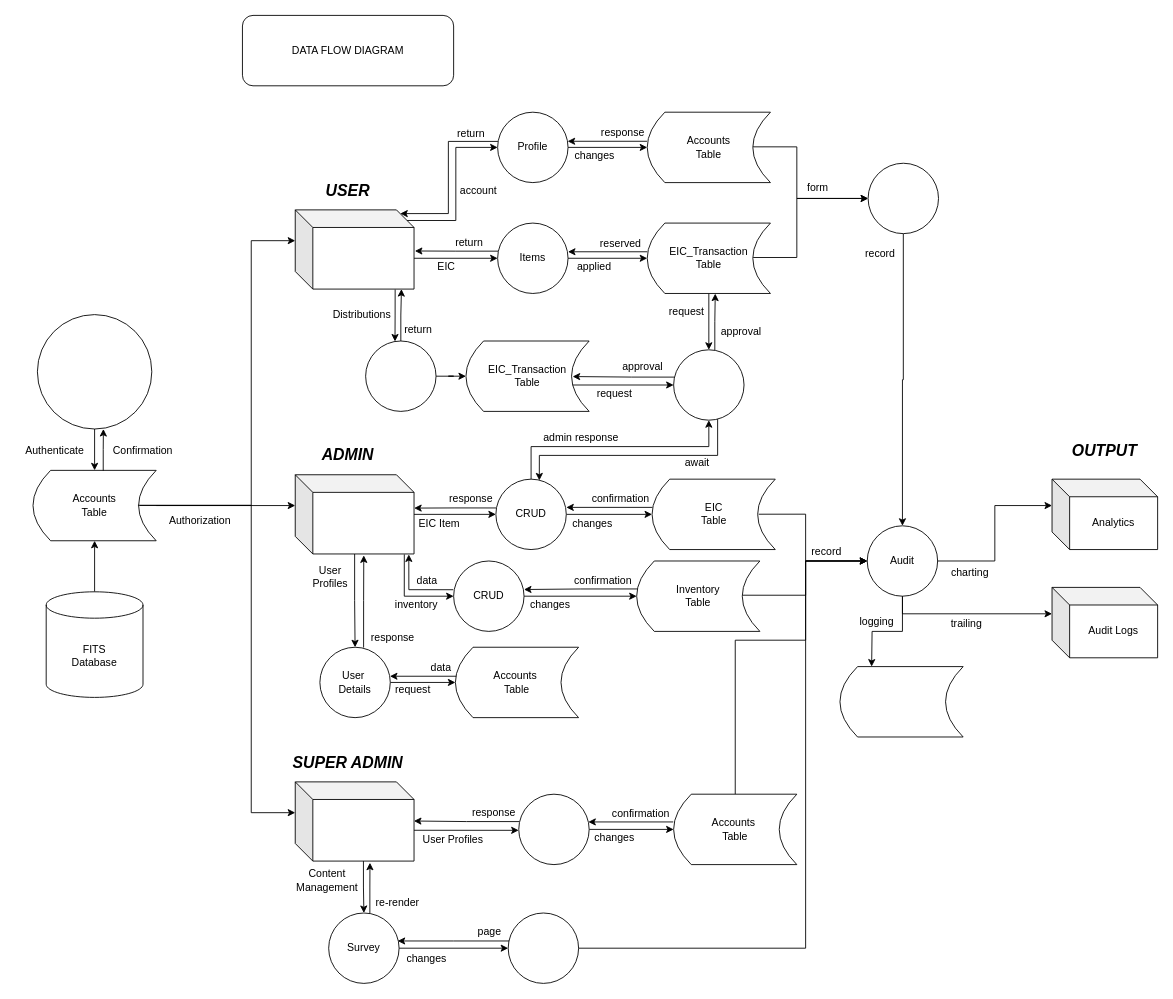
This 1173x999 diagram has some shape labels left out. Here are the shapes that lost their labels. From the top down, the centre of each, then its label:
At (903,198): "Client Survey".
At (354,249): "User Side ( Landing Page )".
At (94,371): "Login / Register".
At (400,375): "produce".
At (708,384): "Borrow Request".
At (354,514): "Admin Dashboard ( Control Panel )".
At (901,701): "Audit Table".
At (354,821): "Additional Features".
At (553,829): "Access Control".
At (543,947): "Static Form".
